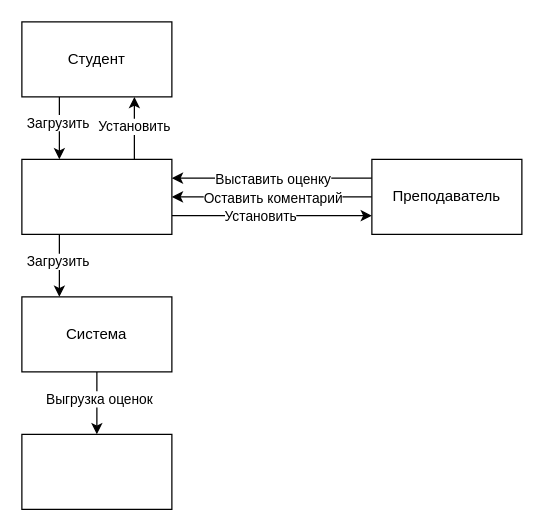
The diagram is 544 pixels wide and 531 high, and some of its shapes have lost their labels. The shapes that lost their labels are listed below. From the top down, each one's centre as x and y in pixels, then its label:
At (96,196): "Проект".
At (96,471): "Электронный журнал".
